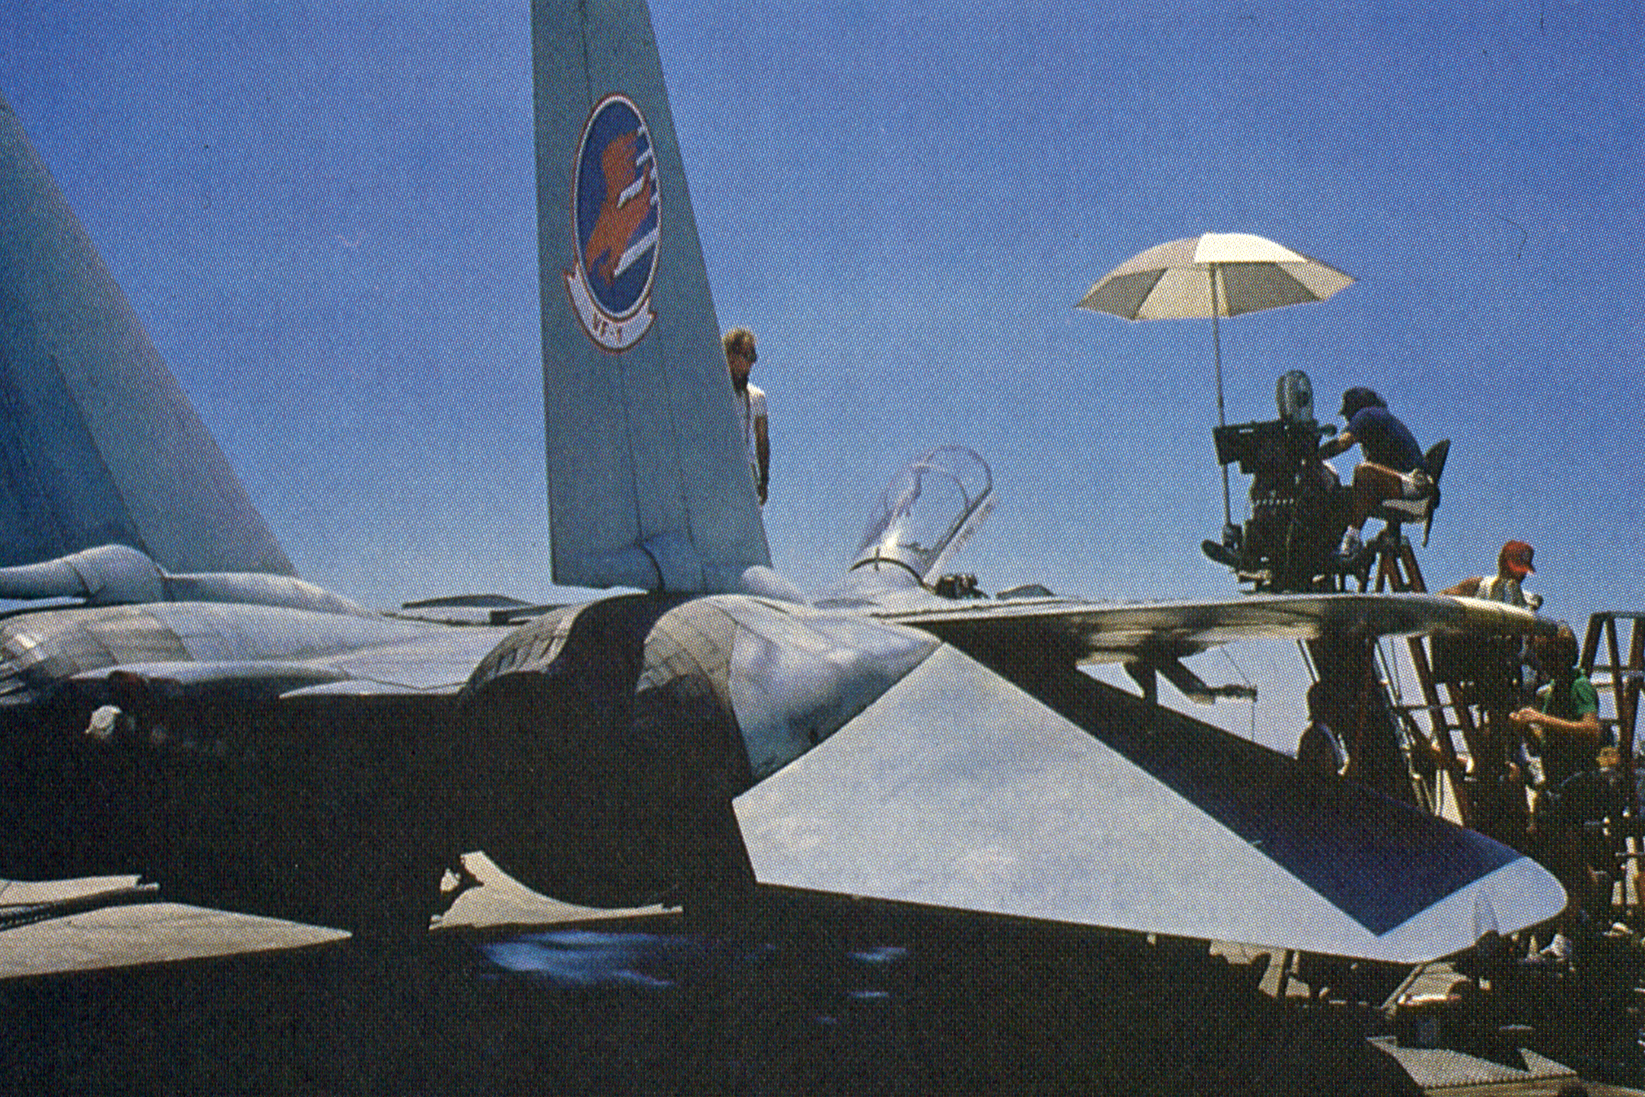F14: (1, 1, 1570, 965)
